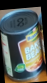beans: (1, 9, 46, 82)
